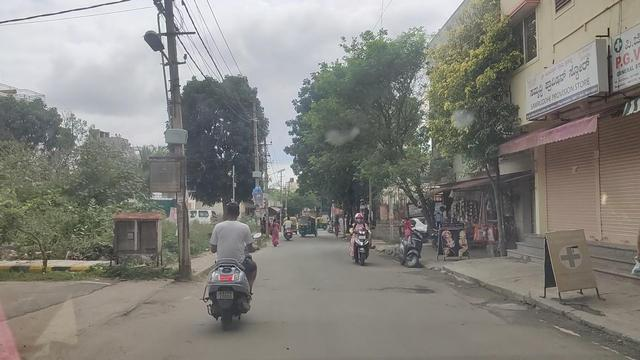LMV: (214, 203, 252, 322), (352, 212, 370, 261)
RoadDamages: (116, 293, 170, 321), (374, 282, 444, 301)
